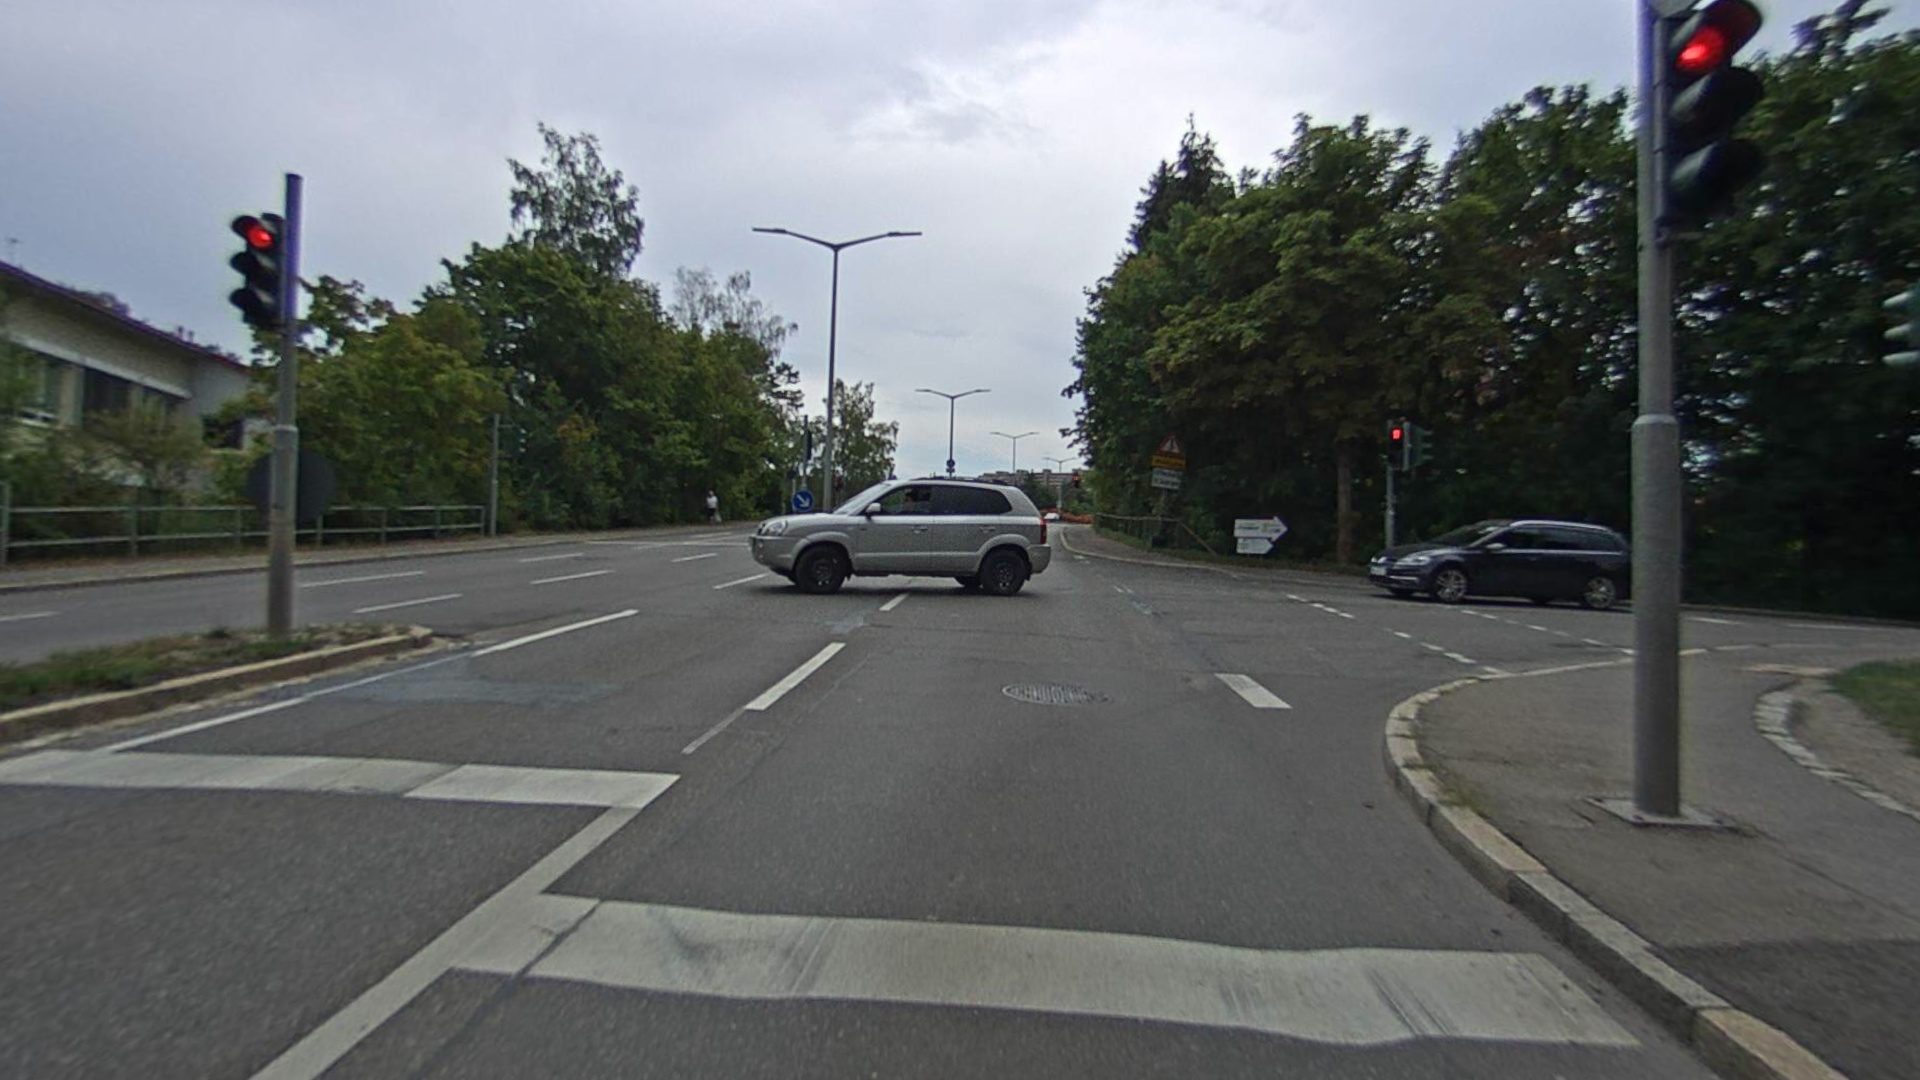car: (752, 477, 1055, 601), (1367, 512, 1631, 611)
